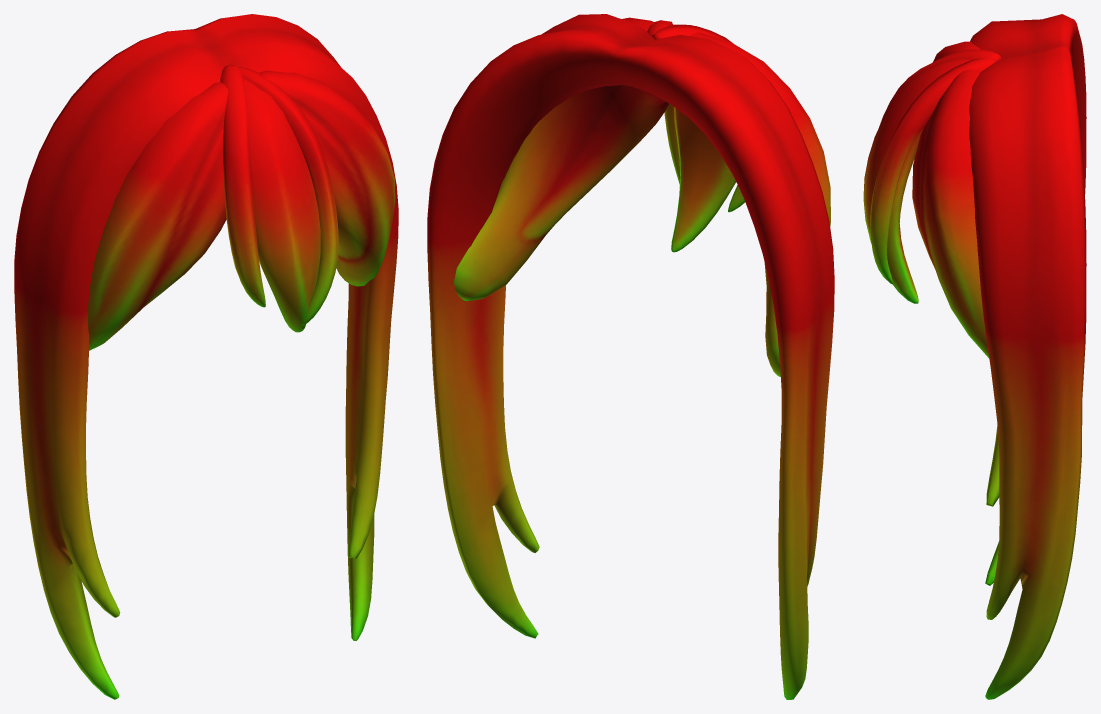
The model's file is HairFront_SideTails.obj.
The picture shows the model from 3 angles, left to right: view 1: azimuth 30°, elevation 25°; view 2: azimuth 150°, elevation 25°; view 3: azimuth 270°, elevation 25°; orthographic projection. The views are drawn at different scales.
Parts seen in each view (by area): view 1: HairFront_SideTails_0; view 2: HairFront_SideTails_0; view 3: HairFront_SideTails_0.
Part boxes in pixels (left/top/right/bottom): HairFront_SideTails_0: left=14, top=14, right=398, bottom=699; HairFront_SideTails_0: left=427, top=14, right=834, bottom=699; HairFront_SideTails_0: left=863, top=14, right=1086, bottom=699.
Bounding box in the file's own units: 0.2088 × 0.346 × 0.1159.
1 material, 1 textured.
